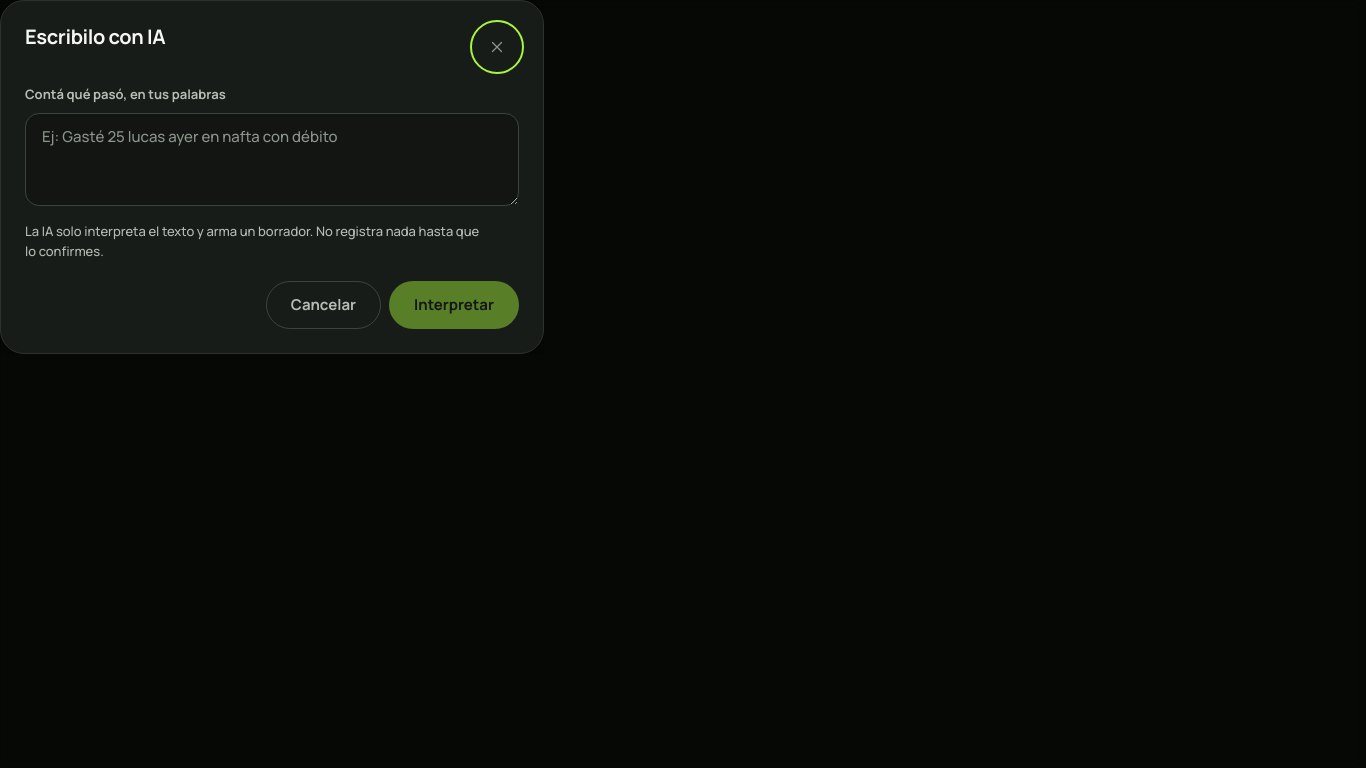
Test: AITransactionDialog › interpreta el texto y muestra un borrador que aclara que no registró nada
Type "Gasté 25 lucas ayer en nafta" into the text box labelled "Contá qué pasó, en tus palabras".
click(272, 159); type("Gasté 25 lucas ayer en nafta")  # box left=25, top=112, right=519, bottom=206
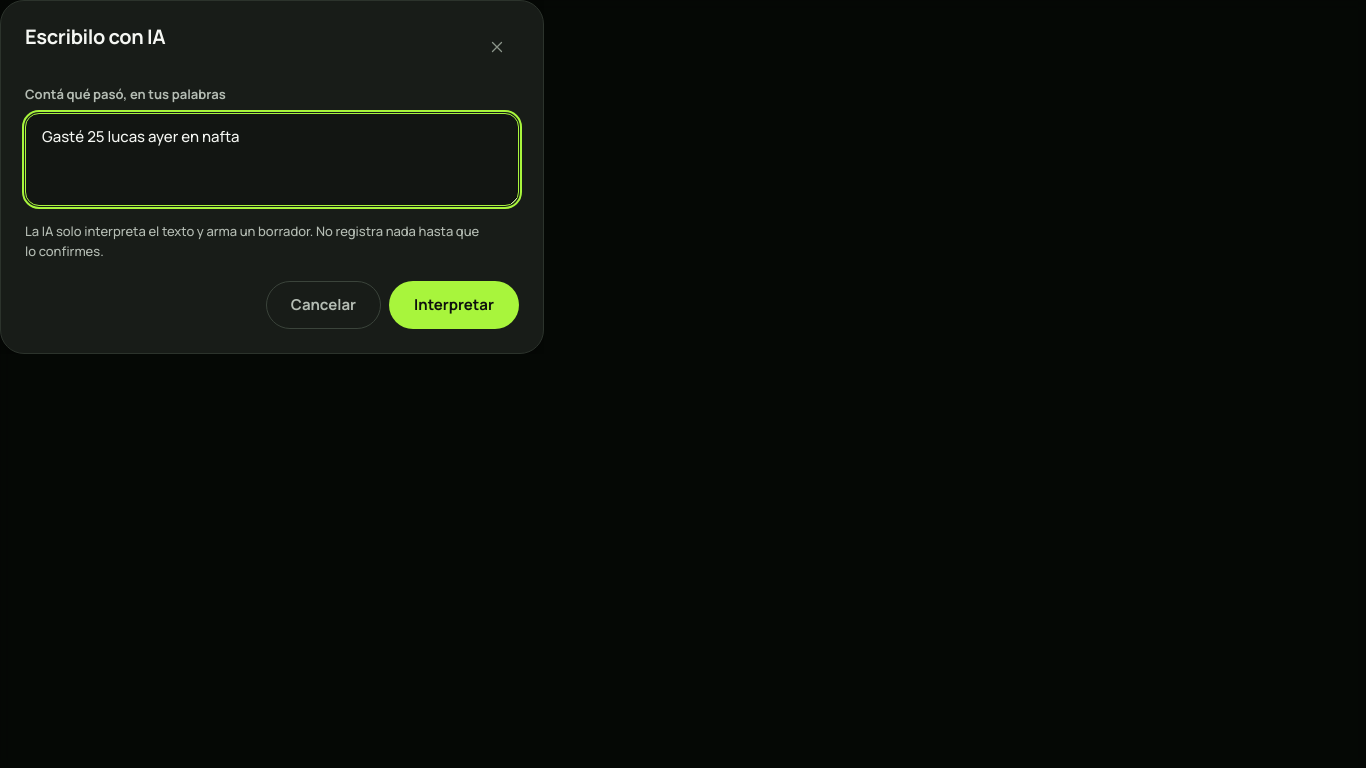
Click the button "Interpretar".
click(454, 305)  # box left=389, top=281, right=519, bottom=329
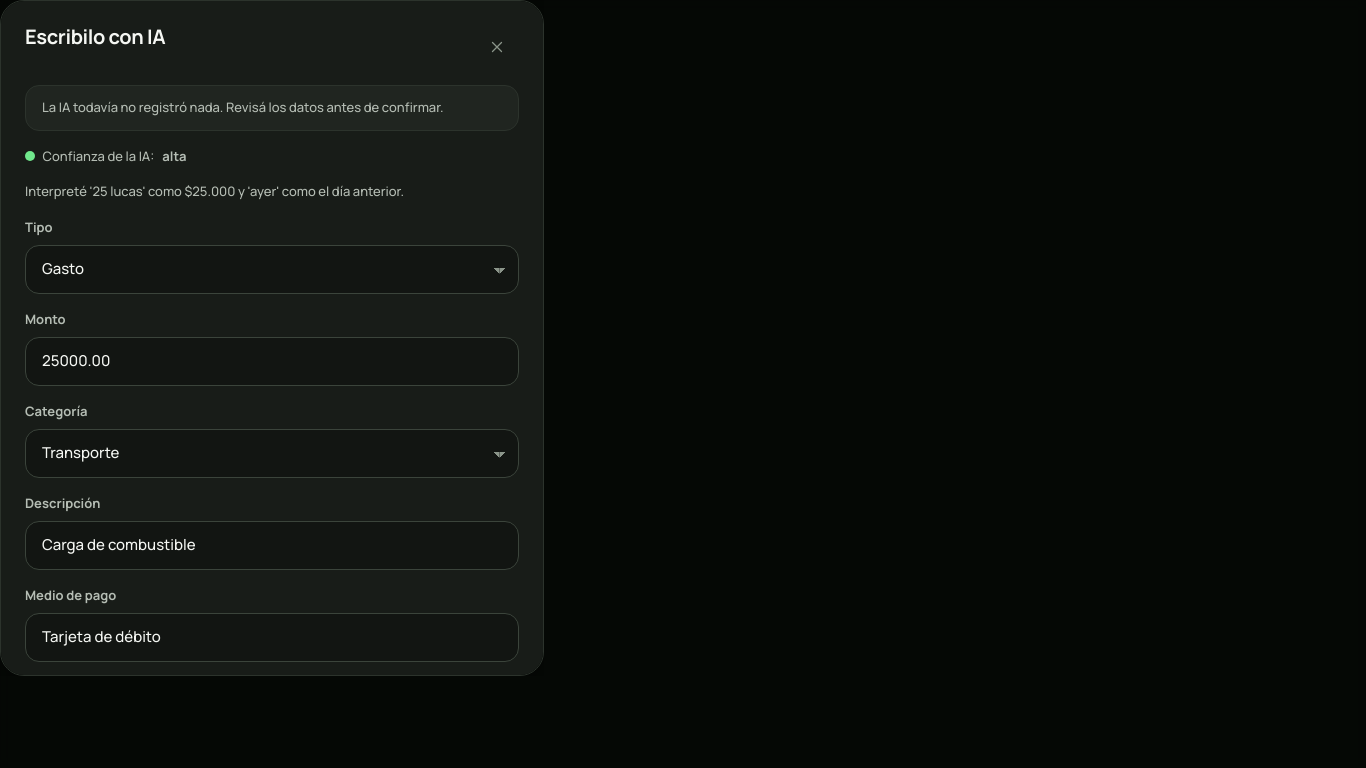
Expected: the text "La IA todavía no registró nada. Revisá los datos antes de confirmar." is shown, left=25, top=85, right=519, bottom=130
Expected: the text "Confianza de la IA: alta" is shown, left=25, top=146, right=187, bottom=164
Expected: the number field showing "25000.00" is shown, left=25, top=337, right=519, bottom=386
